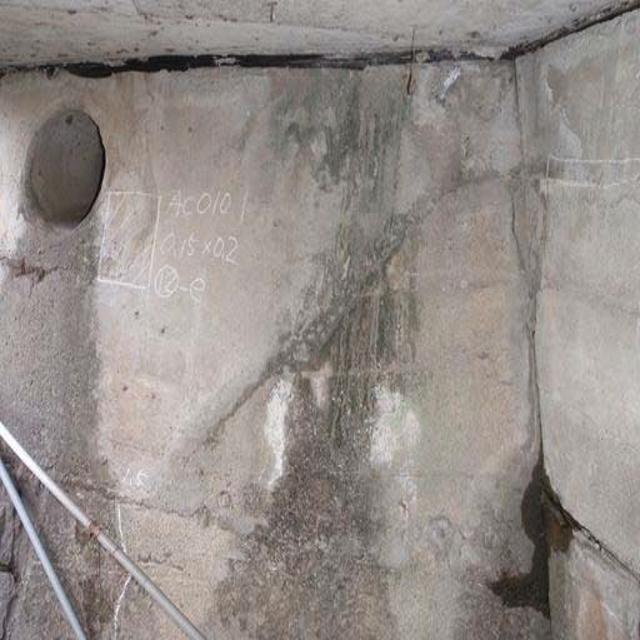leakage: (492, 445, 587, 640)
spalling: (254, 358, 303, 486), (367, 384, 420, 490)
